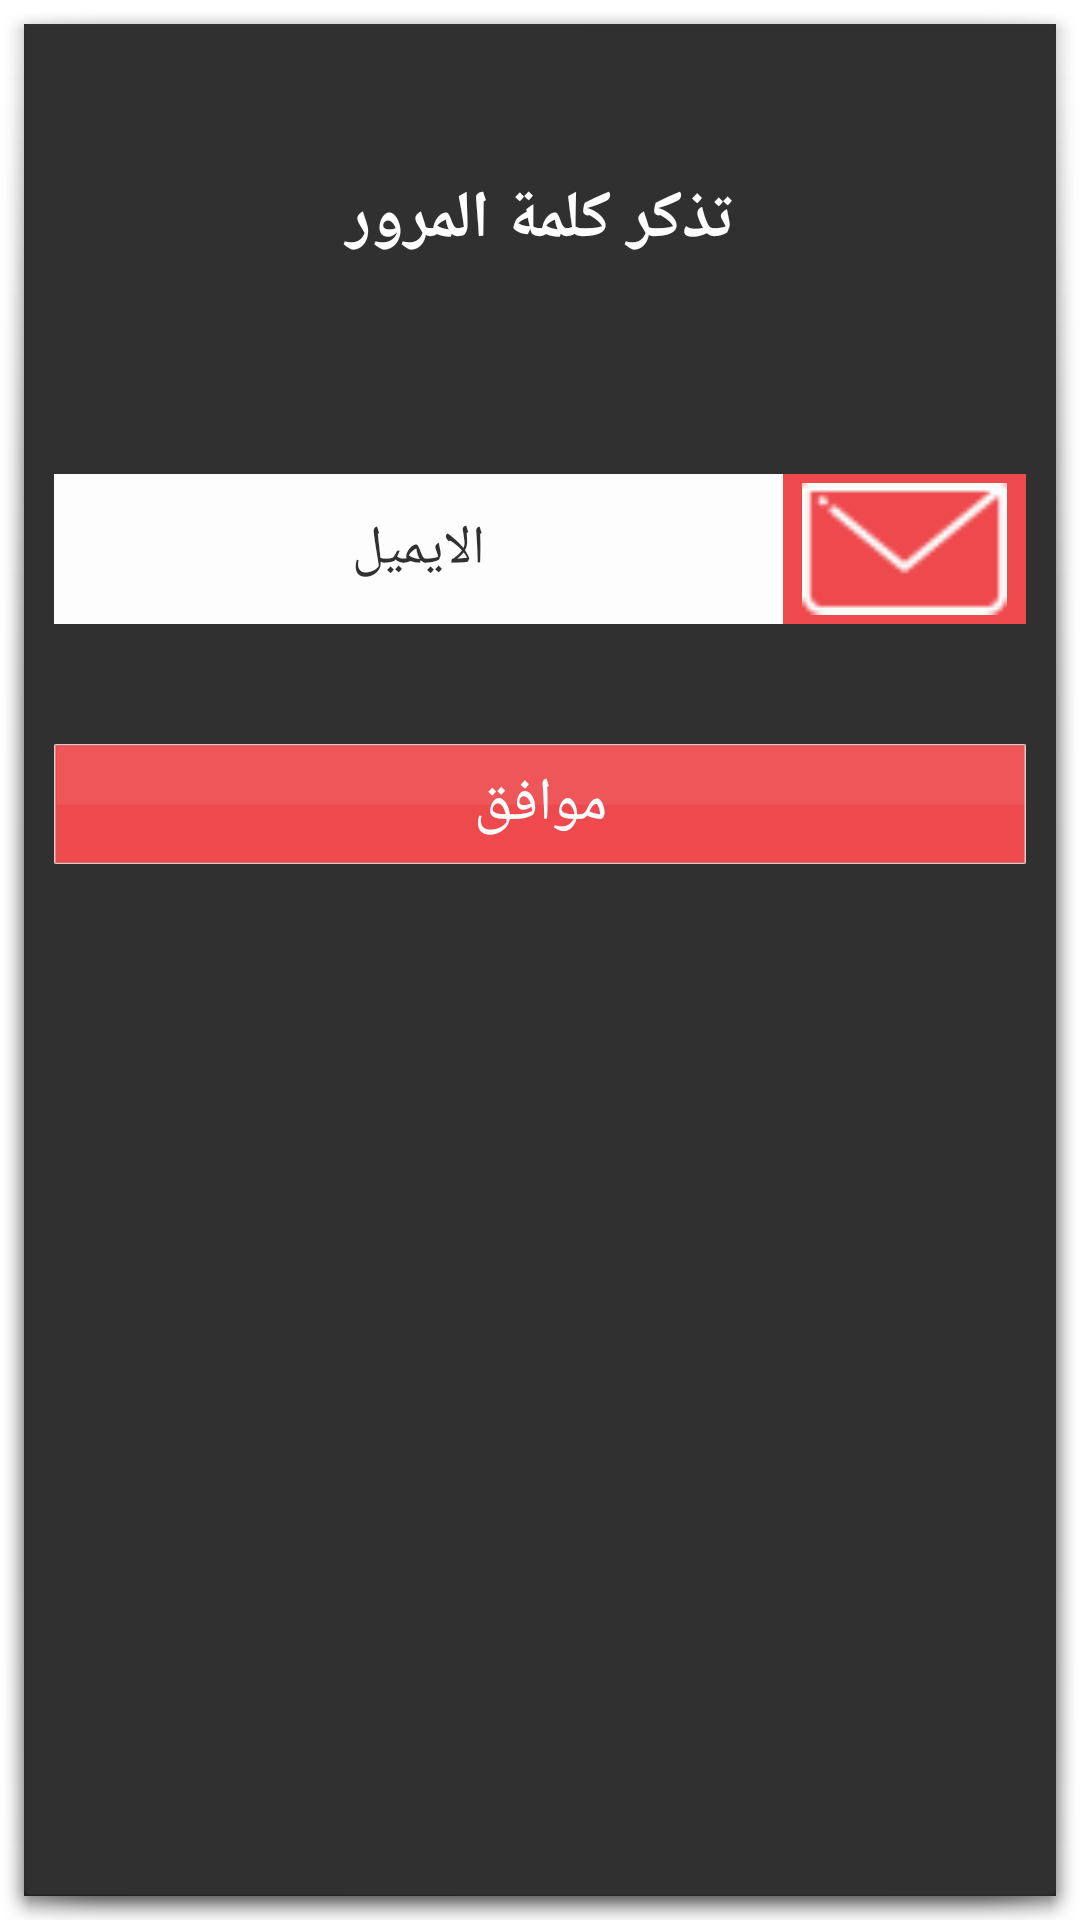

Icons on this 1080x1920 Android screen, each with the point to tap as point (x, y):
feld email: point (880, 525)
